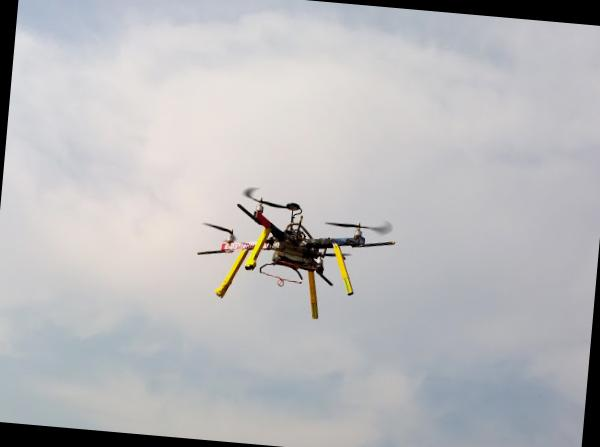drone: (166, 171, 408, 303)
